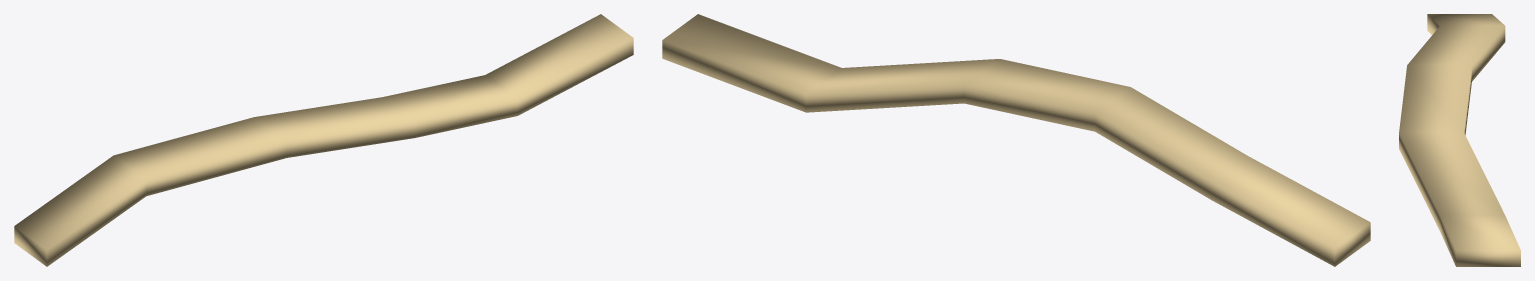
File: Erişte.fbx
3 renders of one model, left to right at view 1: azimuth 30°, elevation 25°; view 2: azimuth 150°, elevation 25°; view 3: azimuth 270°, elevation 25°, orthographic. The views are drawn at different scales.
Visible parts, largest first — view 1: Cube.312; view 2: Cube.312; view 3: Cube.312.
Boxes of the visible parts, bbox=[...] form: Cube.312: bbox=[14, 14, 633, 266]; Cube.312: bbox=[662, 14, 1370, 266]; Cube.312: bbox=[1399, 14, 1520, 266].
Bounding box in the file's own units: 41.11 × 5.05 × 7.29.
